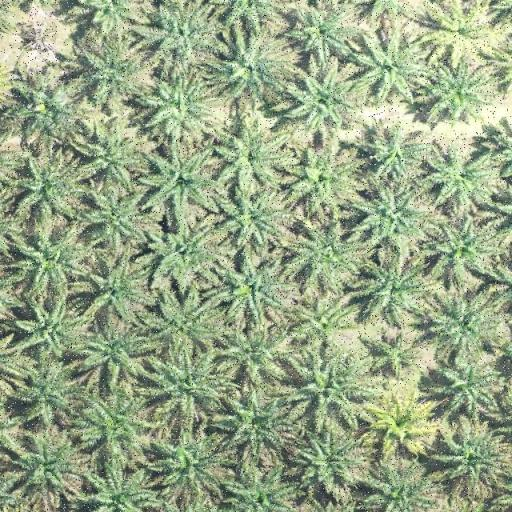Ganoderma: (375, 398, 430, 446), (438, 10, 490, 56), (17, 20, 57, 54)
